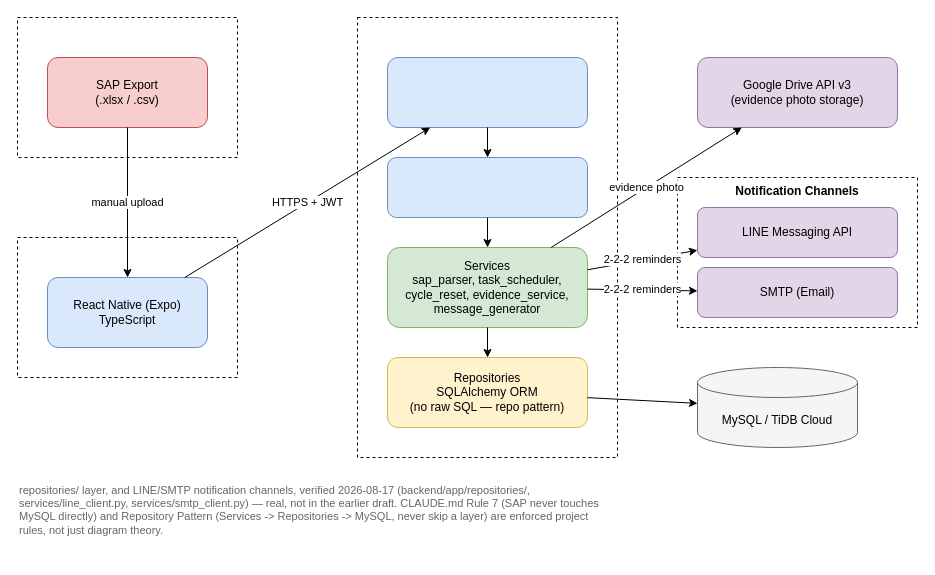
Image size: 935x575. Some labels were removed from this diagram. Here are the shapes that lost their labels. From the top down, the box of each, then its label:
(16, 16, 238, 158): External Sources
(386, 56, 588, 128): Routers auth, upload, tasks, evidence, customers, auto_touch, reports
(386, 156, 588, 218): JWT Middleware (python-jose)
(356, 16, 618, 458): FastAPI Backend (Render)
(16, 236, 238, 378): Mobile Client
